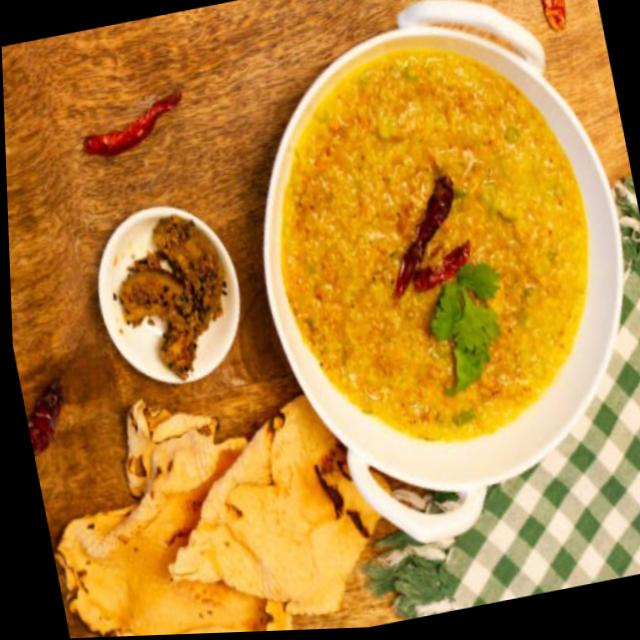PAPADAM: (57, 395, 383, 637)
SAMBAR RICE: (276, 48, 587, 441)
VEGGIES: (120, 214, 230, 382)
